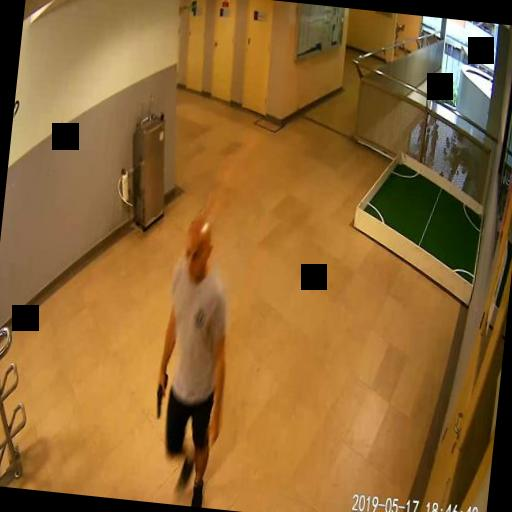Handgun: (154, 370, 168, 418)
